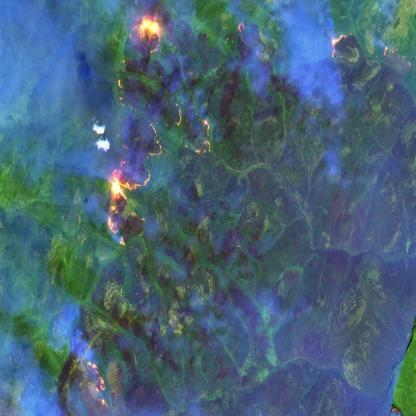fire: (91, 0, 186, 270)
